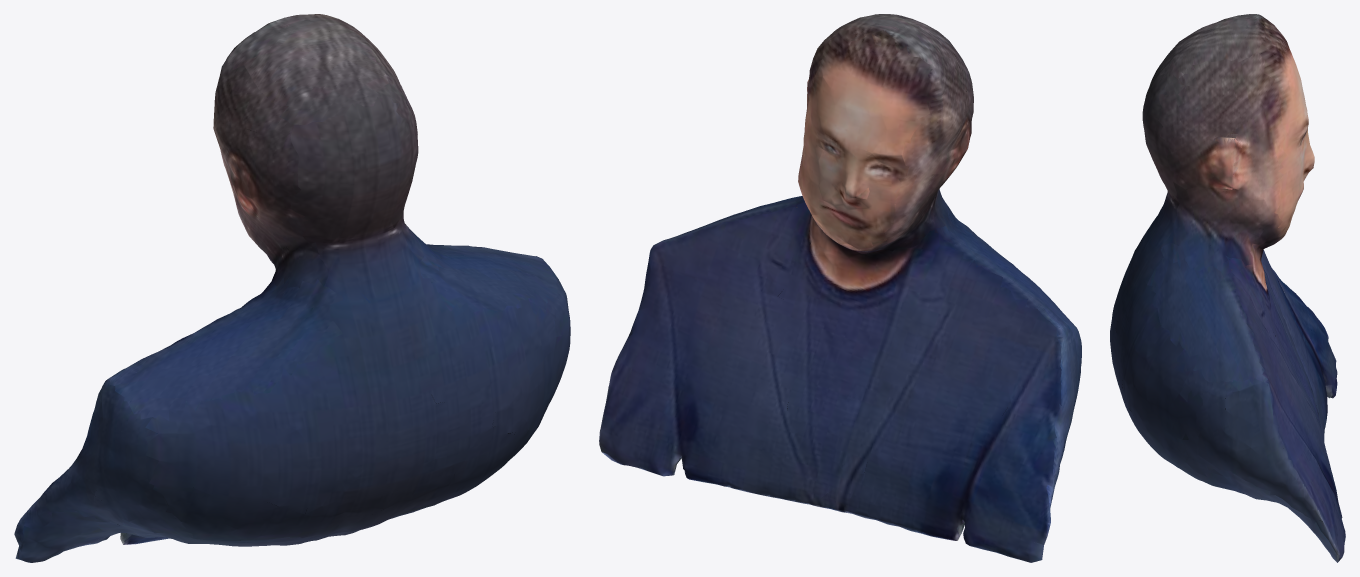
3 renders of one model, left to right at view 1: azimuth 30°, elevation 25°; view 2: azimuth 150°, elevation 25°; view 3: azimuth 270°, elevation 25°, orthographic. The views are drawn at different scales.
Parts seen in each view (by area): view 1: world; view 2: world; view 3: world.
Part boxes in pixels (x1,y1,x2,y2): world: [14, 14, 570, 562]; world: [599, 14, 1081, 562]; world: [1110, 14, 1345, 562].
Size of the model in its own units: 0.8361 by 0.8301 by 0.4011.
Materials: 1 (1 with a texture image).
